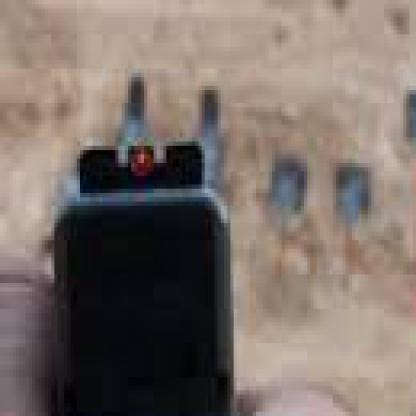gun: (19, 60, 269, 412)
